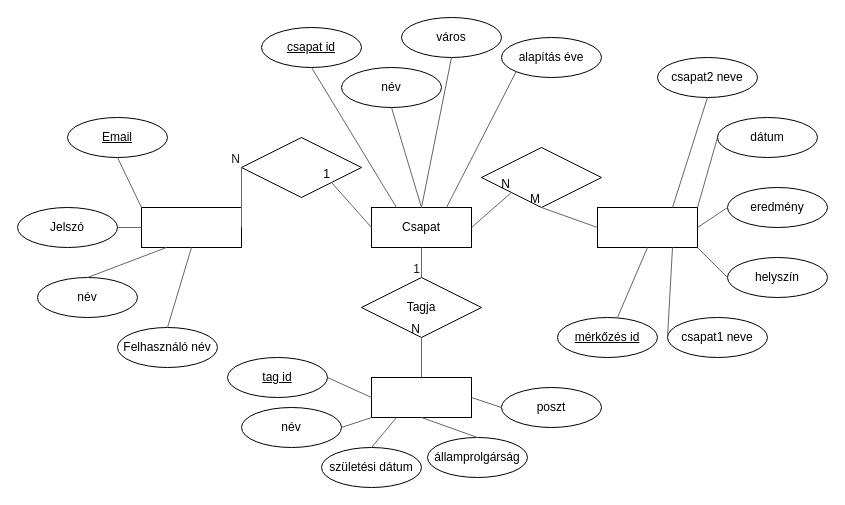
Some shapes in this 845 by 505 pixel diagram are drawn without their labels. The shapes that lost their labels are listed below. From the top down, each one's box as (x1, y1, x2, y2) in pixels, then its label:
(240, 136, 362, 198): Játszik
(480, 146, 602, 208): Részt vesz
(140, 206, 242, 248): Felhasználó
(596, 206, 698, 248): Mérkőzések
(370, 376, 472, 418): Tagok
